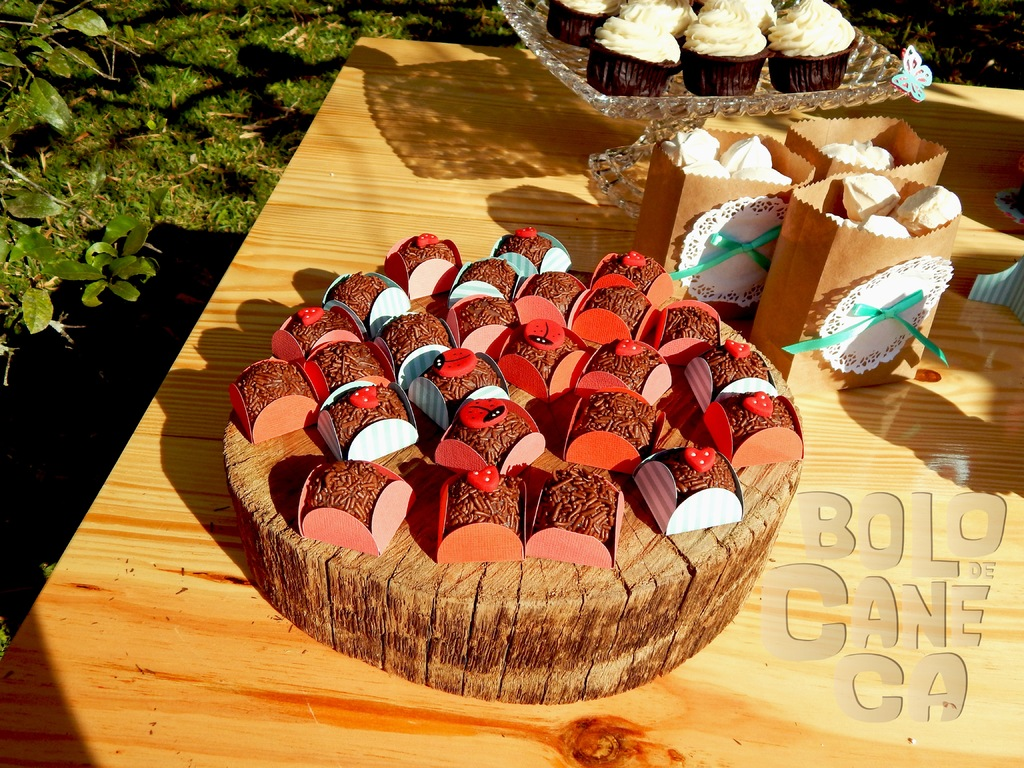cake: (228, 230, 805, 563), (673, 3, 762, 98), (764, 0, 849, 87), (599, 13, 682, 93), (551, 0, 608, 47)
